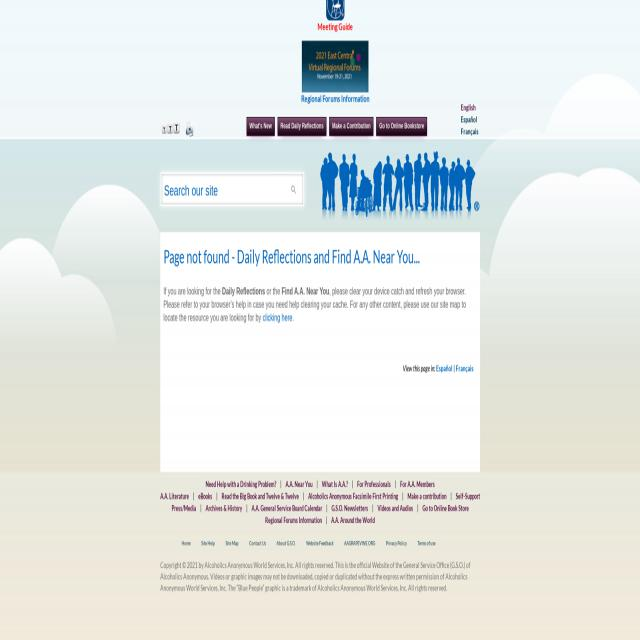button: (302, 41, 368, 92), (377, 117, 428, 135), (278, 117, 326, 135), (329, 117, 373, 135), (247, 117, 275, 135), (326, 0, 344, 21), (162, 123, 180, 134), (185, 122, 194, 137)
field: (162, 173, 304, 204)
